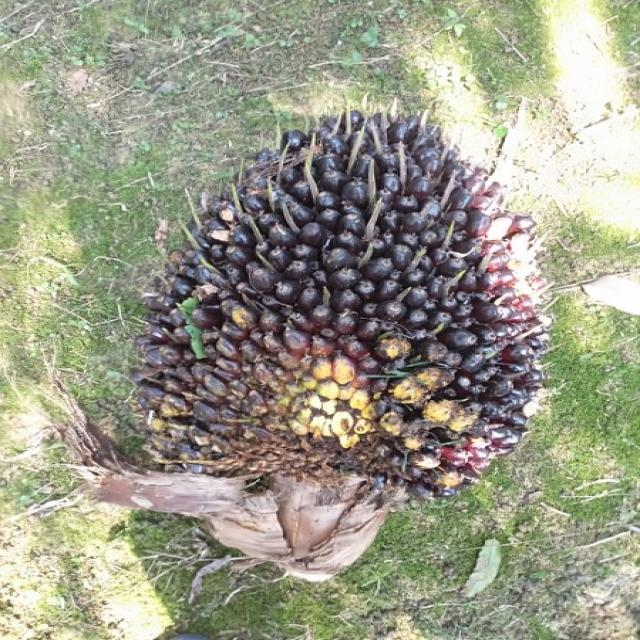fraksi 00: (150, 101, 542, 511)
